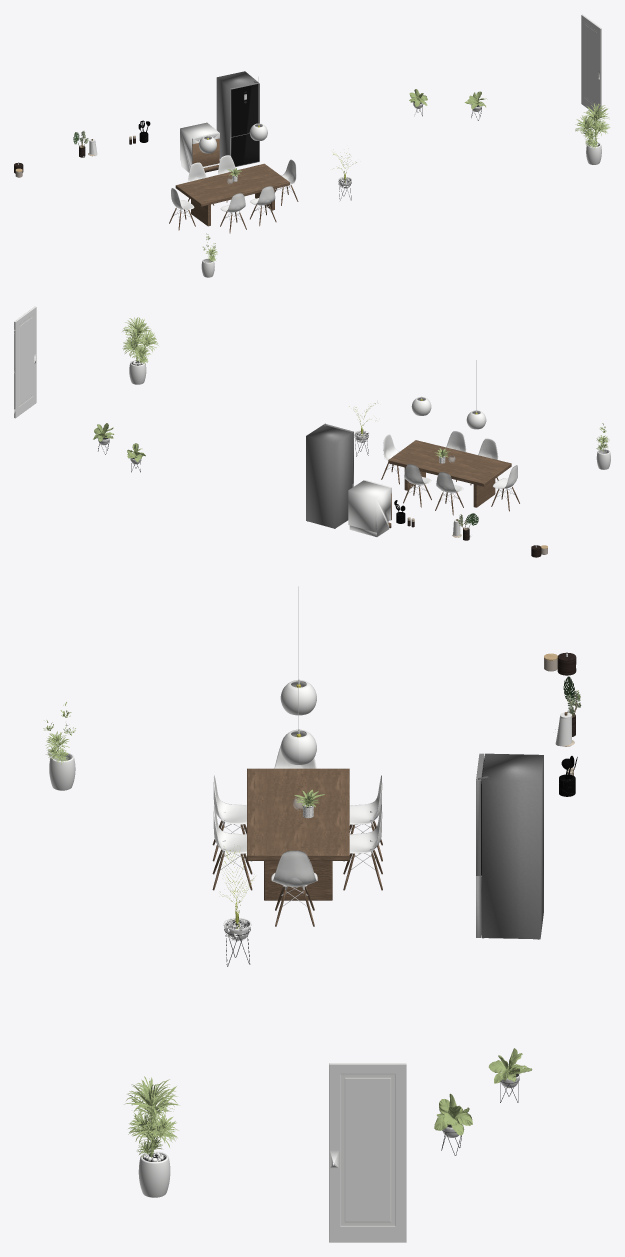
File: casa-completa-06.glb
3 views of the same model, one above another, from view 1: azimuth 30°, elevation 25°; view 2: azimuth 150°, elevation 25°; view 3: azimuth 270°, elevation 25° (orthographic). The views are drawn at different scales.
Visible parts, largest first — view 1: DiningTable.001, Refrigator.001, Plants (×2), Door.001, Dishwasher.001, KDecor; view 2: DiningTable.001, Refrigator.001, Plants (×2), Door.001, Dishwasher.001, KDecor; view 3: DiningTable.001, Door.001, Refrigator.001, Plants (×2), KDecor.
Boxes of the visible parts, box(x1,y1,x2,y2) form: DiningTable.001: box(169, 77, 298, 233); Refrigator.001: box(216, 71, 259, 167); Plants (×2): box(201, 89, 610, 277); Door.001: box(581, 14, 601, 113); Dishwasher.001: box(180, 122, 219, 172); KDecor: box(14, 120, 150, 177); DiningTable.001: box(381, 360, 519, 515); Refrigator.001: box(306, 423, 353, 528); Plants (×2): box(93, 317, 610, 472); Door.001: box(14, 306, 36, 418); Dishwasher.001: box(348, 480, 391, 536); KDecor: box(394, 500, 547, 557); DiningTable.001: box(212, 586, 382, 926); Door.001: box(329, 1063, 406, 1242); Refrigator.001: box(476, 753, 543, 939); Plants (×2): box(43, 702, 532, 1197); KDecor: box(544, 652, 581, 796).
Bounding box in the file's own units: 14.88 × 3.56 × 6.54.
Materials: 31 (13 with a texture image).
